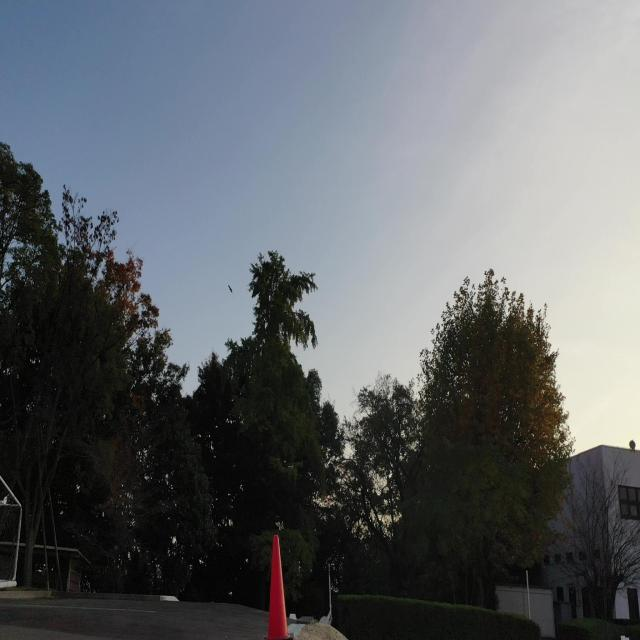Birds: (222, 280, 236, 298)
